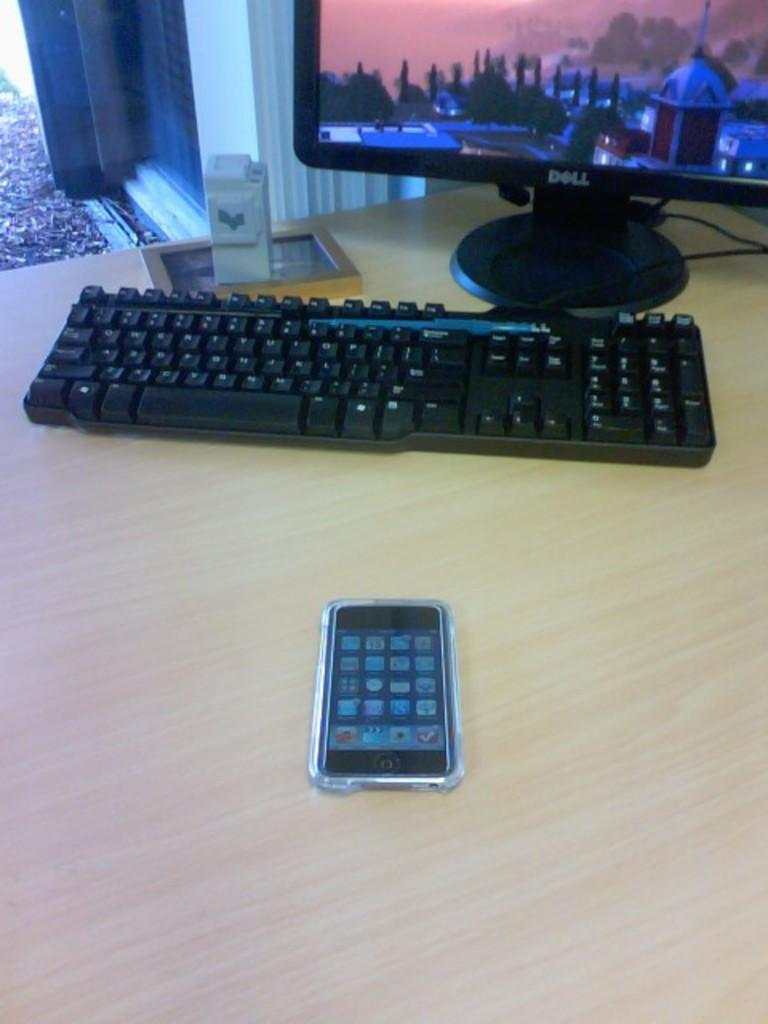Computer-keyboard: (21, 285, 718, 467)
Computer-monitor: (277, 27, 768, 262)
